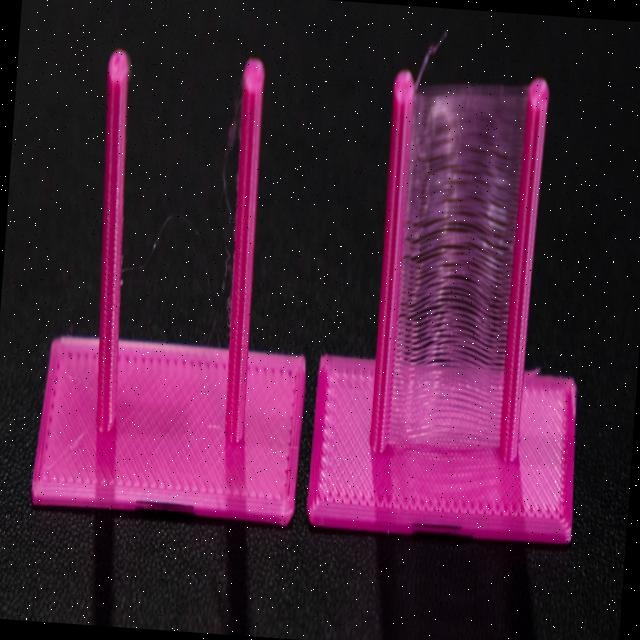stringing: (387, 85, 526, 455), (218, 105, 239, 333)
